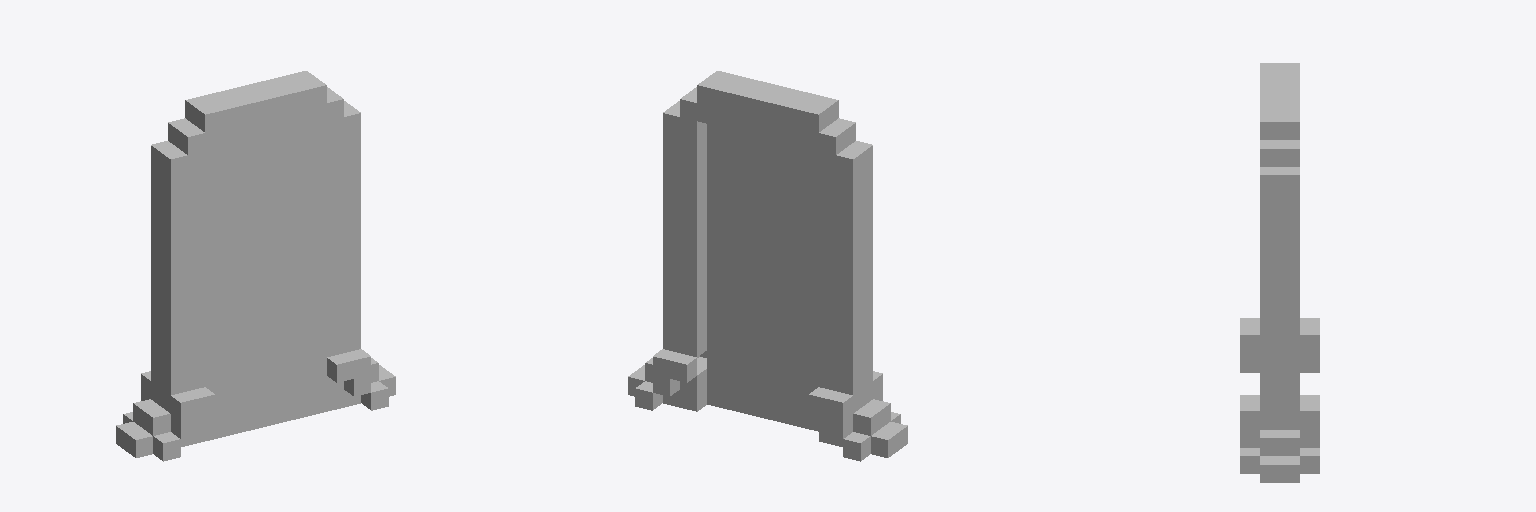
Rendered from Door.obj.
The picture shows the model from 3 angles: view 1: azimuth 30°, elevation 25°; view 2: azimuth 150°, elevation 25°; view 3: azimuth 270°, elevation 25°; orthographic projection.
Visible parts, largest first — view 1: object 1; view 2: object 1; view 3: object 1.
Boxes of the visible parts, x1,y1,x2,y2 form: object 1: [116, 71, 395, 461]; object 1: [628, 71, 907, 461]; object 1: [1240, 63, 1319, 482].
Bounding box in the file's own units: 1.5 × 1.8 × 0.4.